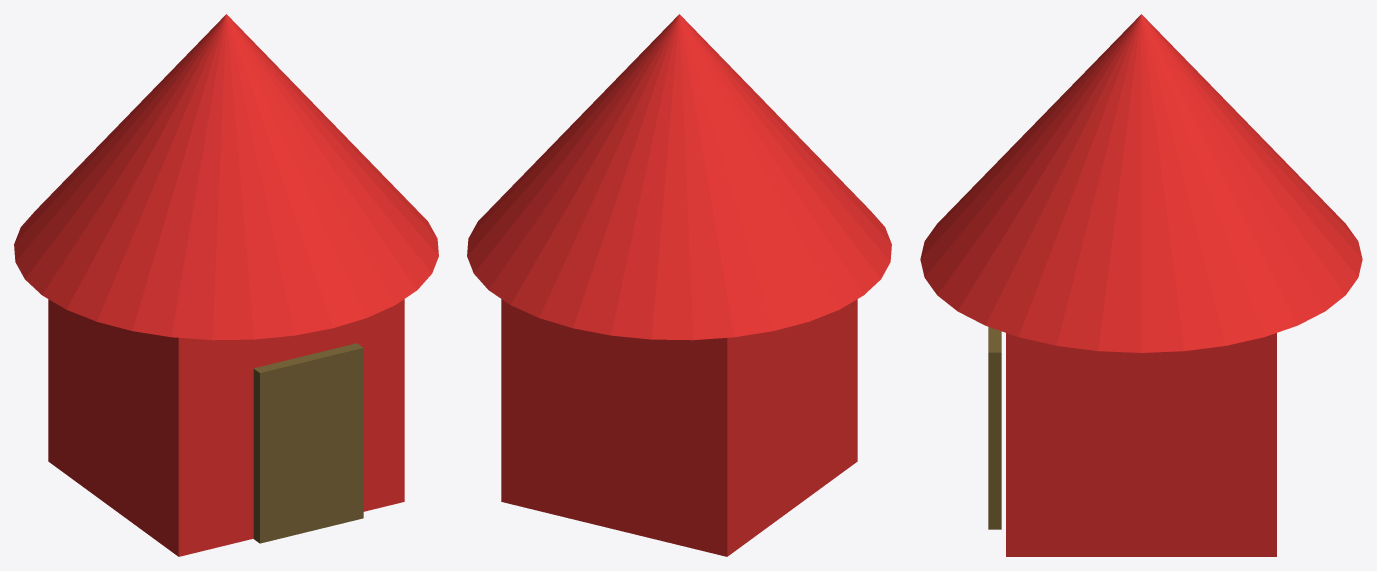
Rendered from house.glb.
3 views of the same model, side by side, from view 1: azimuth 30°, elevation 25°; view 2: azimuth 150°, elevation 25°; view 3: azimuth 270°, elevation 25° (orthographic). The views are drawn at different scales.
Parts seen in each view (by area): view 1: house, door; view 2: house; view 3: house, door.
Boxes of the visible parts, box(x1,y1,x2,y2) form: house: box(14, 14, 438, 556); door: box(253, 343, 363, 543); house: box(467, 14, 891, 556); house: box(920, 14, 1362, 556); door: box(988, 327, 1001, 529).
Size of the model in its own units: 3.27 by 3.96 by 3.27.
